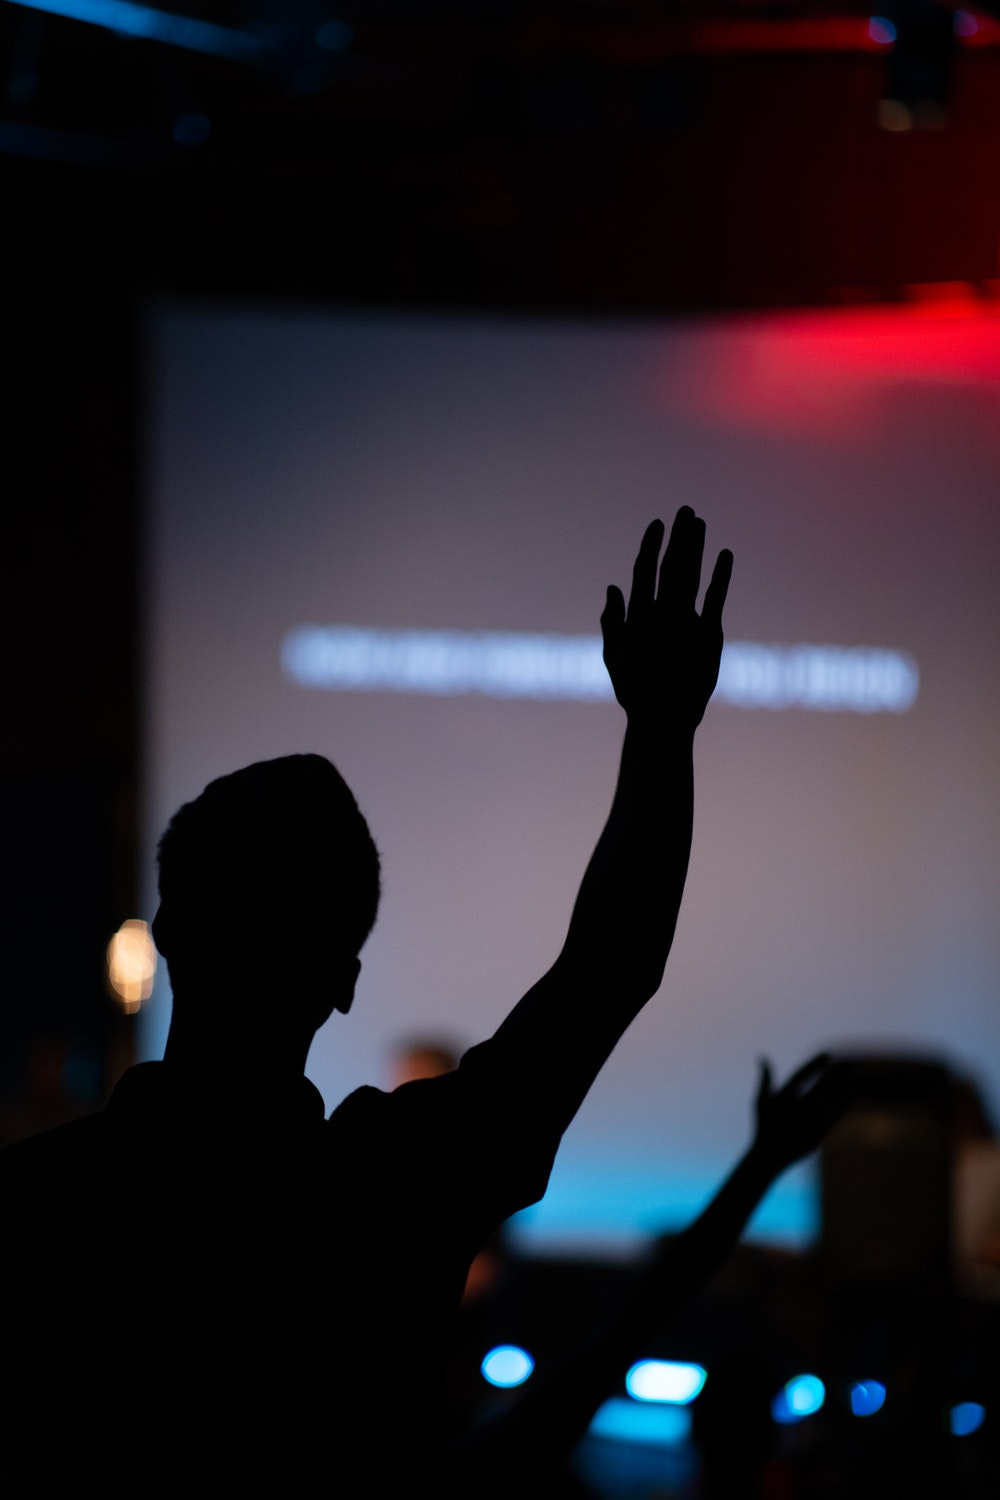hand: (595, 501, 737, 719), (746, 1045, 859, 1161)
